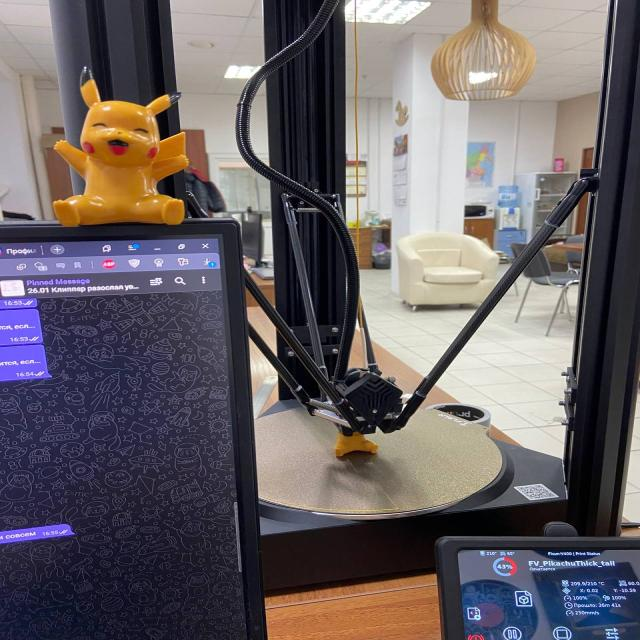Without deffect: (24, 65, 209, 226)
